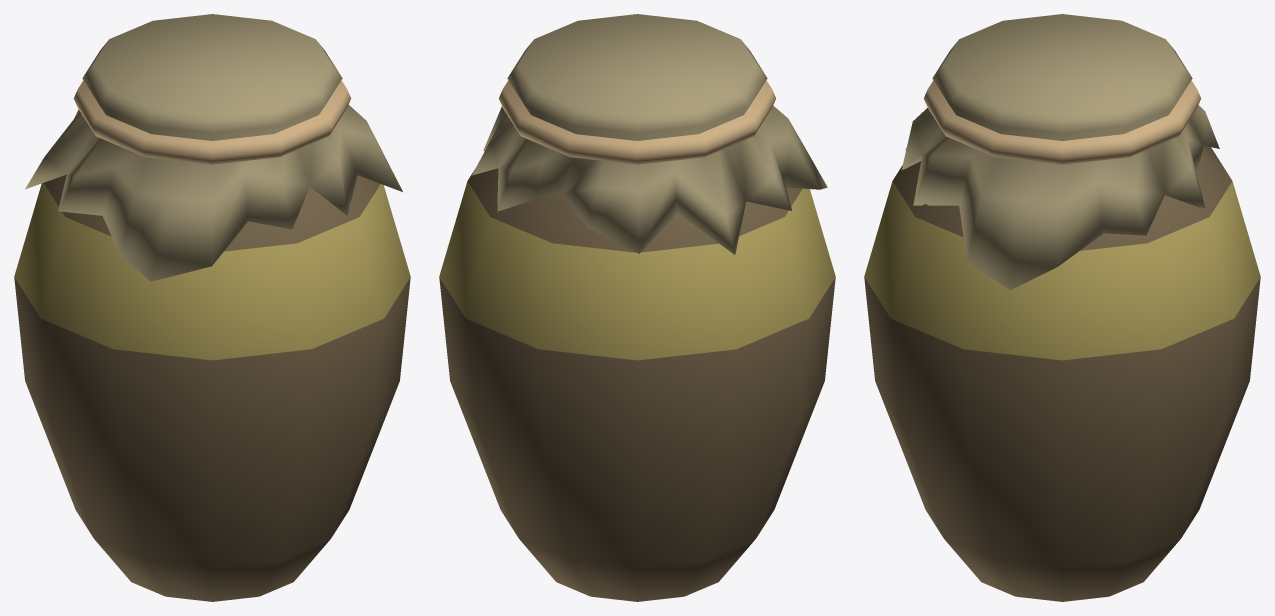
File: rpgpp_lt_vase_02.glb
3 renders of one model, left to right at view 1: azimuth 30°, elevation 25°; view 2: azimuth 150°, elevation 25°; view 3: azimuth 270°, elevation 25°, orthographic.
Visible parts, largest first — view 1: rpgpp_lt_vase_02; view 2: rpgpp_lt_vase_02; view 3: rpgpp_lt_vase_02.
Boxes of the visible parts, left/top/right/bottom form: rpgpp_lt_vase_02: left=14, top=14, right=410, bottom=601; rpgpp_lt_vase_02: left=439, top=14, right=835, bottom=601; rpgpp_lt_vase_02: left=864, top=14, right=1260, bottom=601.
Bounding box in the file's own units: 0.3547 × 0.4914 × 0.3547.
1 material, 1 textured.
